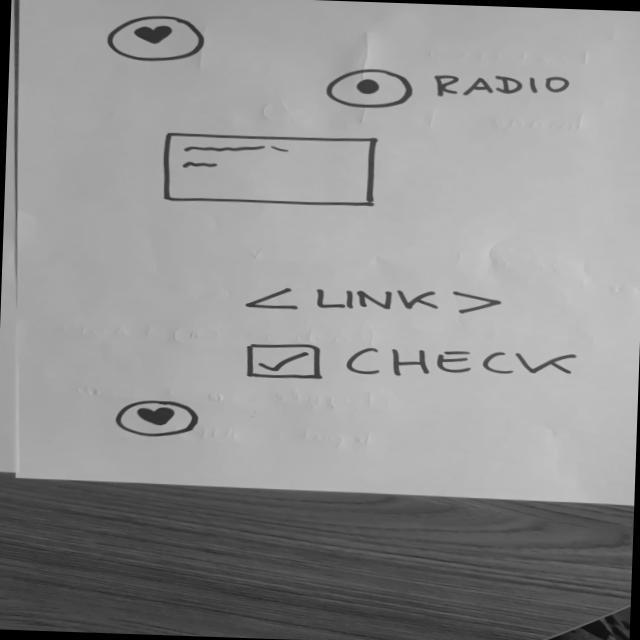checkbox: (240, 336, 591, 395)
icon-button: (104, 12, 214, 68), (112, 397, 202, 441)
link: (234, 281, 512, 325)
radio: (322, 64, 577, 118)
textarea: (158, 130, 383, 212)
